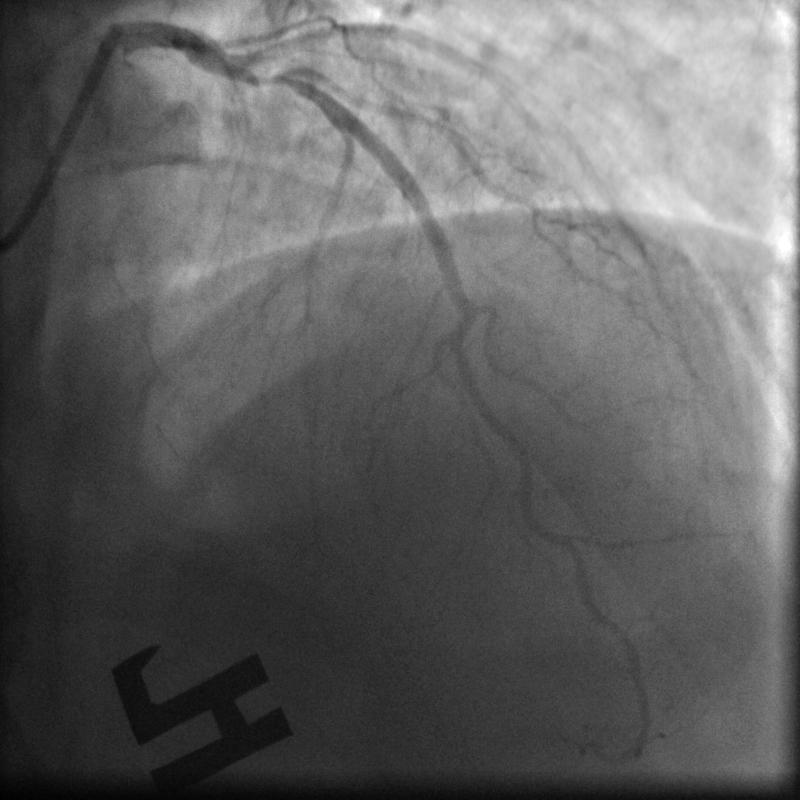Stenosis: (235, 59, 301, 94)
